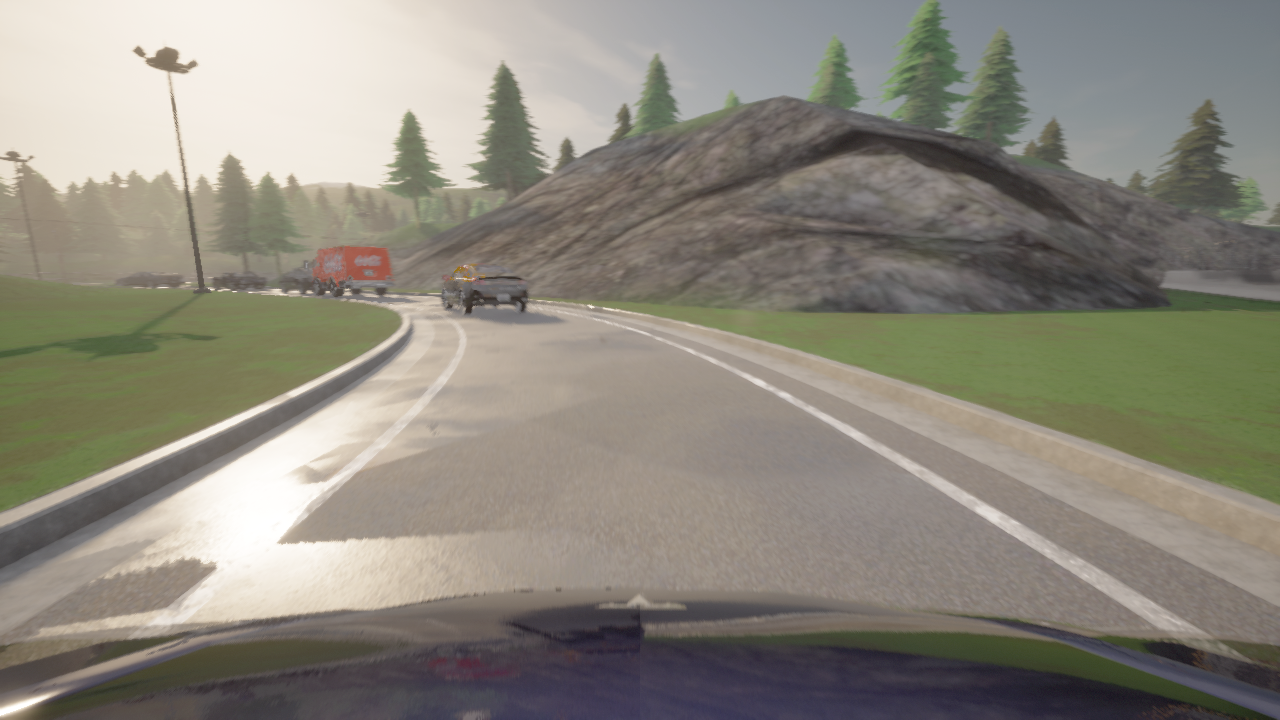cyclist: (0, 588, 1279, 719), (304, 246, 394, 297), (441, 264, 528, 315), (114, 271, 185, 287), (212, 272, 266, 290), (280, 268, 313, 294)
